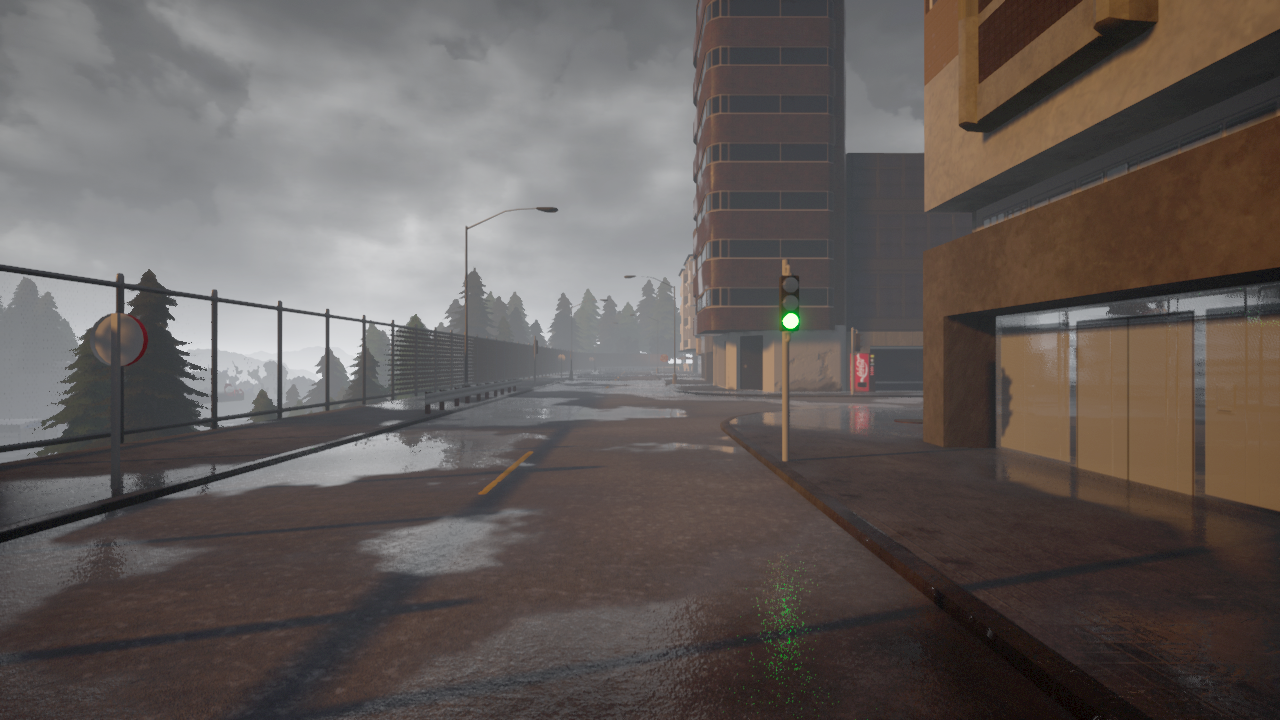green: (778, 275, 800, 333)
